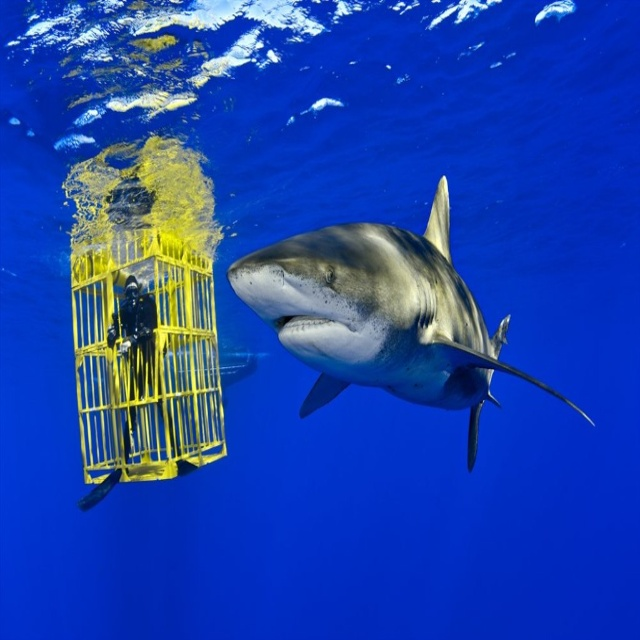Shark: (230, 176, 592, 472)
